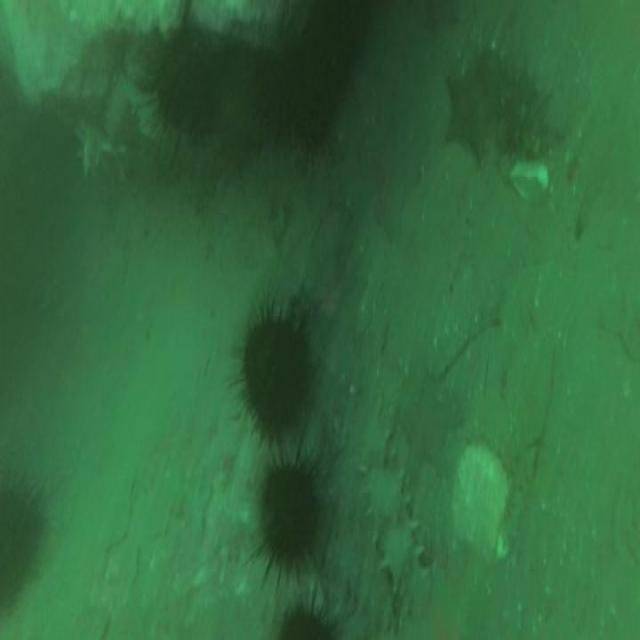echinus: (242, 319, 308, 436), (262, 463, 318, 567), (157, 54, 218, 138), (2, 490, 38, 611)
holothurian: (360, 405, 429, 624)
scallop: (452, 442, 511, 562)
starfish: (447, 63, 499, 161)
